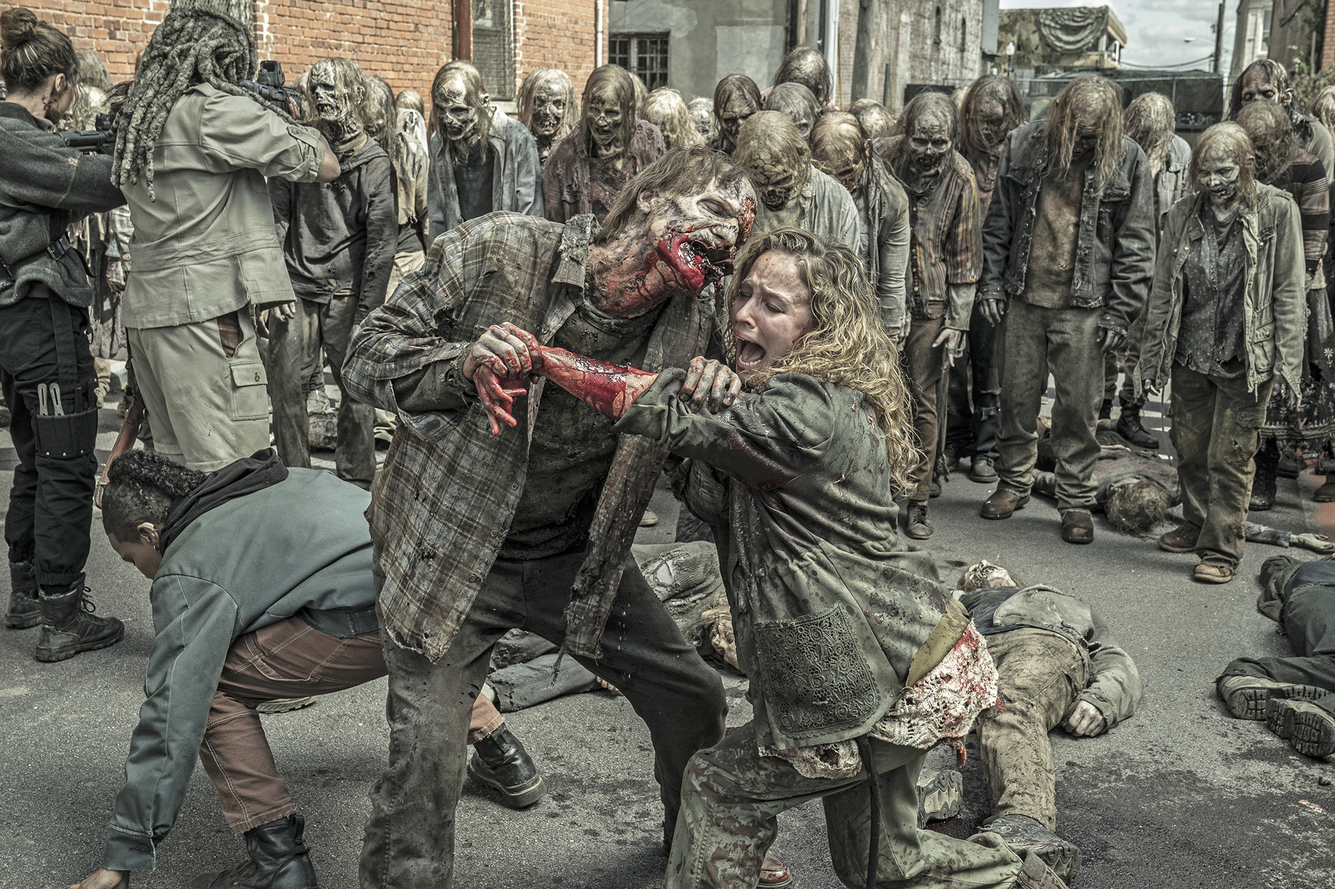human: (111, 0, 332, 473), (0, 14, 133, 660), (972, 73, 1140, 546), (1143, 121, 1305, 585)
